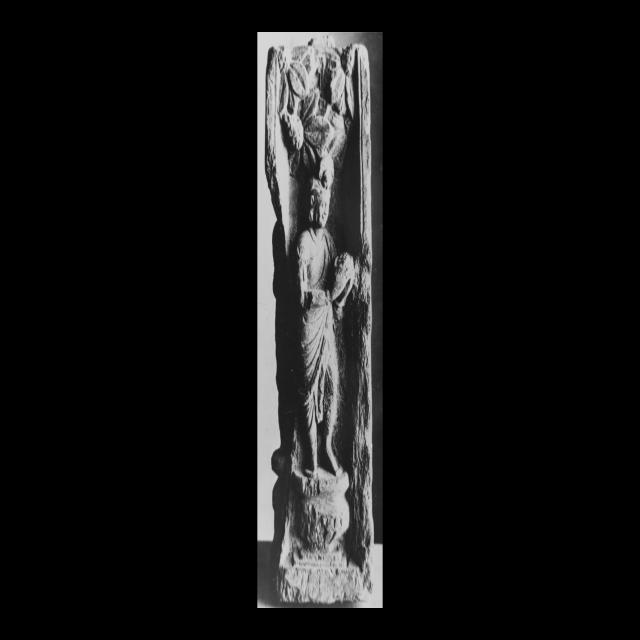buddha-standing: (296, 158, 354, 476)
